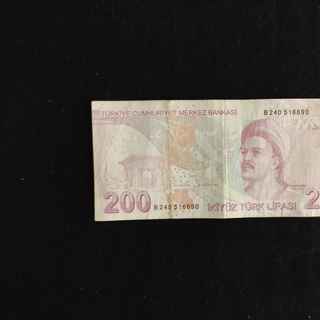200TLBack: (89, 97, 320, 221)
